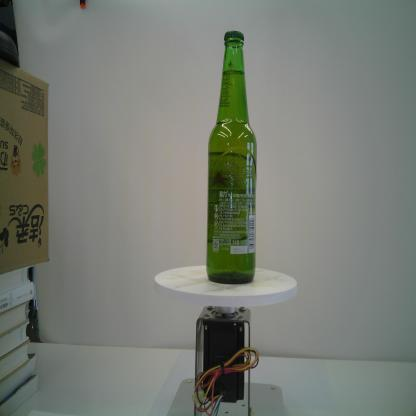Alcohol: (204, 28, 258, 287)
